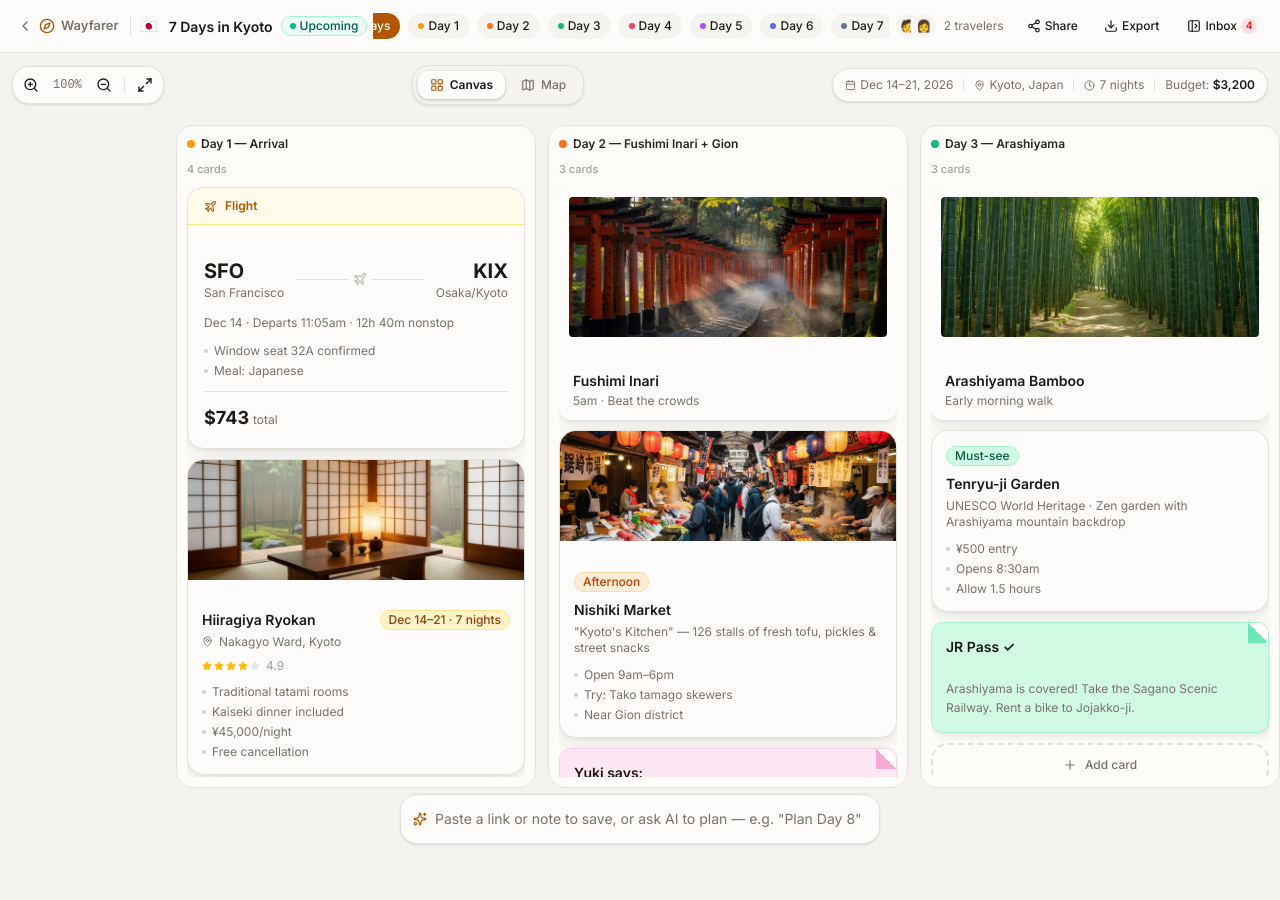
TripWorkspacePresenter AI prompting › AI prompt feedback › announces when an AI suggestion creates an Inbox draft
Focus the field with placeholder "Paste a link or note to save" at coordinates (651, 819), box [435,805,867,833]
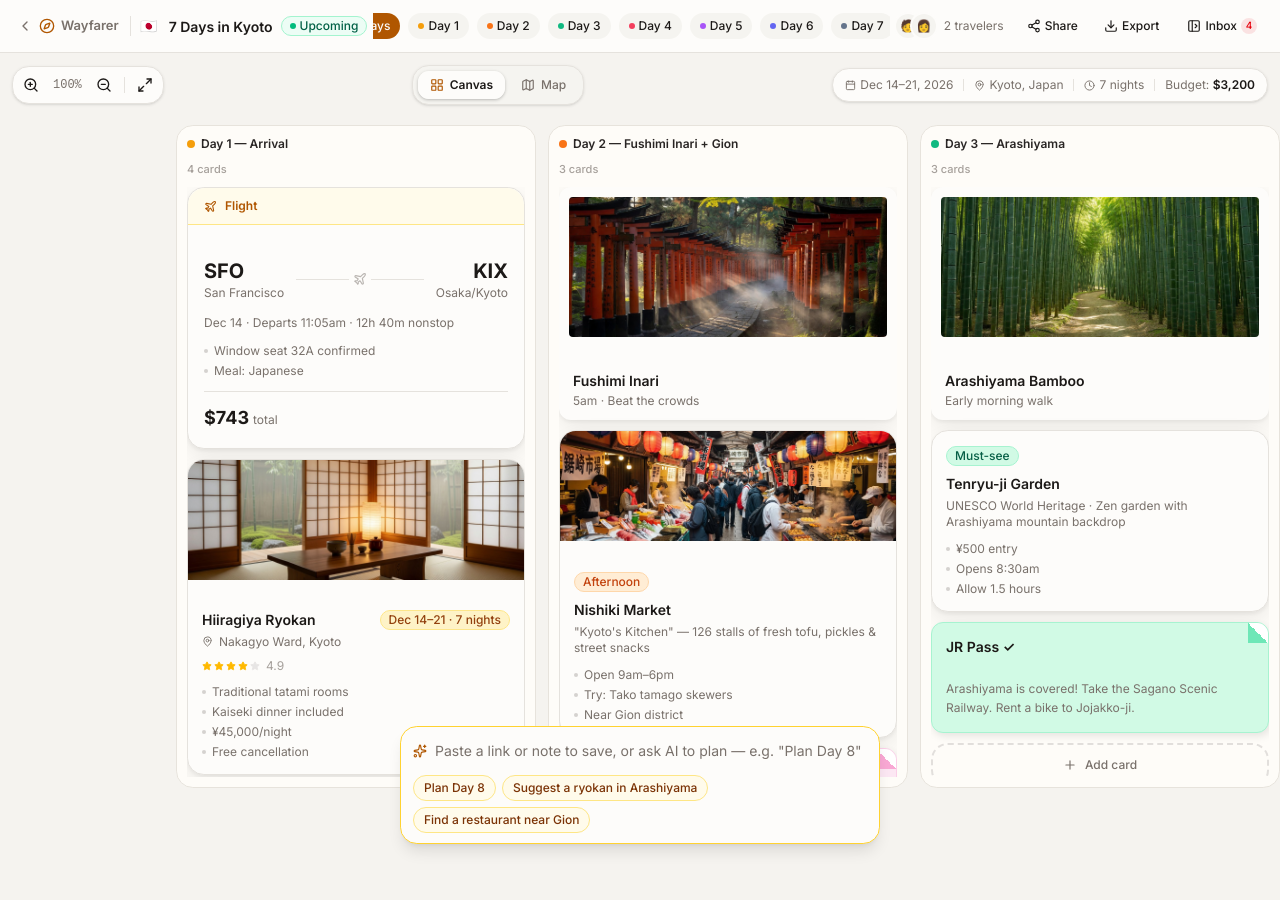
Click the button "Find a restaurant near Gion".
click(502, 820)  # box [413,807,590,833]
Wait 1200 ms
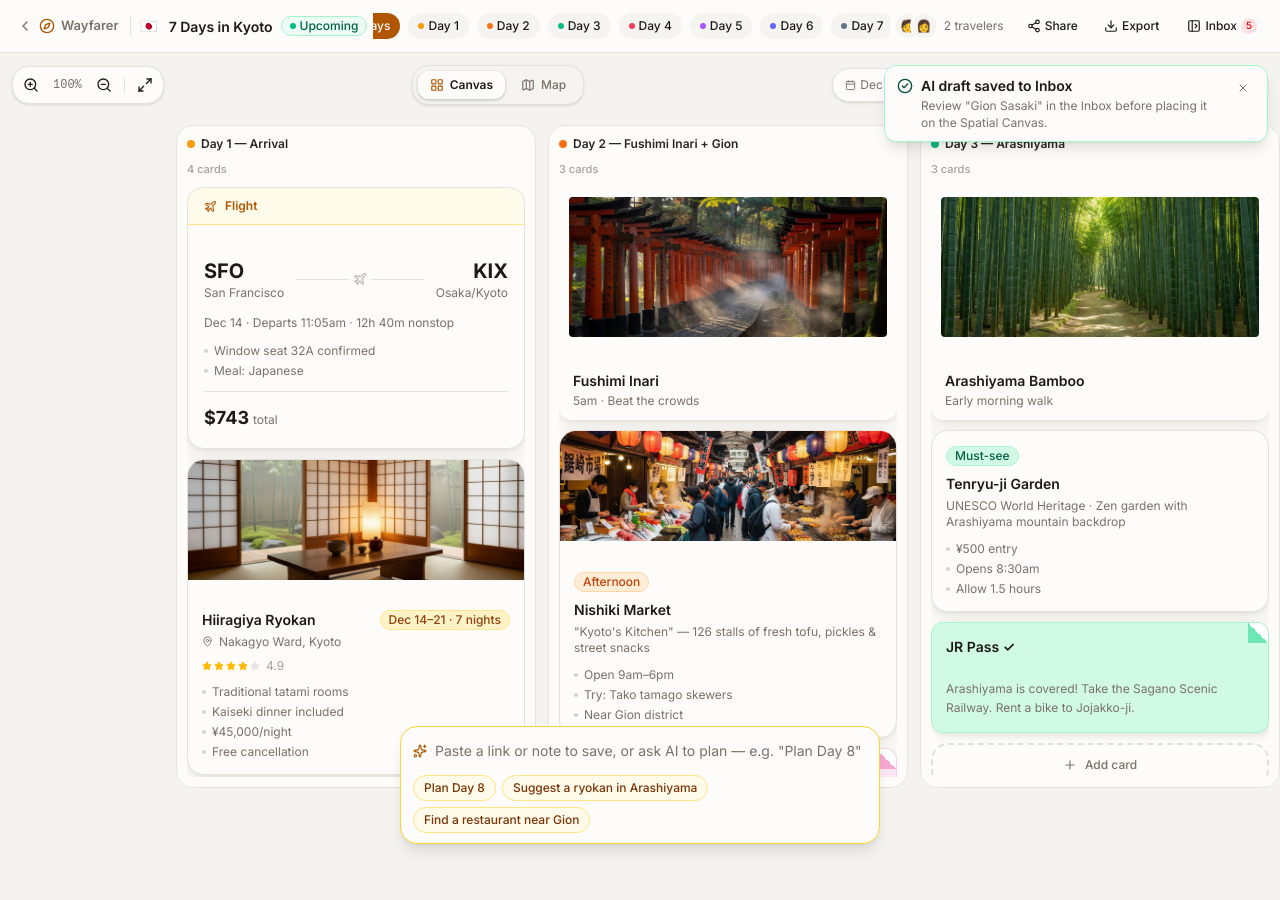
Result: the message shows "AI draft saved to Inbox" at [921,77,1072,94]
Result: the message shows "Gion Sasaki" at [921,98,1207,130]
